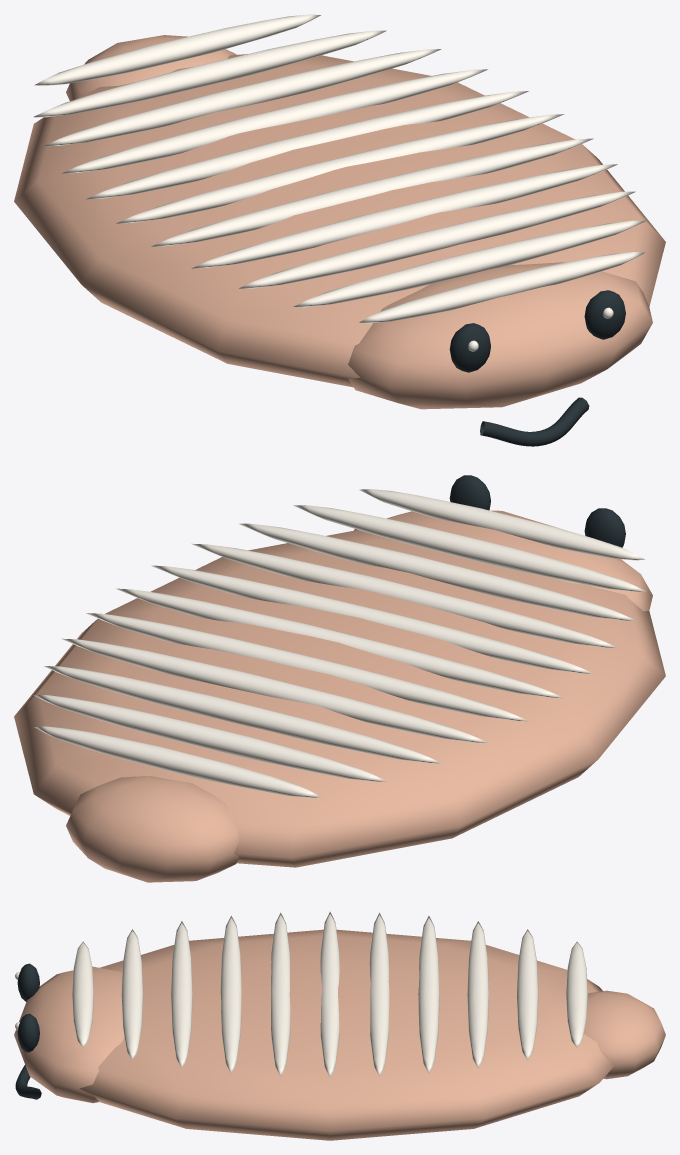
Rendered from org_dickinsonia.glb.
3 renders of one model, top to bottom at view 1: azimuth 30°, elevation 25°; view 2: azimuth 150°, elevation 25°; view 3: azimuth 270°, elevation 25°, orthographic. The views are drawn at different scales.
Parts seen in each view (by area): view 1: Body, Head, Tail, Eye_R, Eye_L; view 2: Body, Tail, Head, Eye_R, Eye_L; view 3: Body, Head, Tail, Eye_L, Eye_R.
Part boxes in pixels (x1,y1,x2,y2): Body: (14, 14, 665, 387); Head: (348, 262, 652, 446); Tail: (66, 35, 236, 100); Eye_R: (449, 323, 490, 372); Eye_L: (584, 290, 625, 339); Body: (14, 489, 665, 867); Tail: (66, 776, 239, 882); Head: (354, 510, 652, 611); Eye_R: (584, 508, 625, 547); Eye_L: (449, 475, 490, 510); Body: (72, 911, 614, 1140); Head: (14, 966, 124, 1103); Tail: (584, 990, 665, 1079); Eye_L: (15, 1013, 39, 1052); Eye_R: (15, 963, 39, 1001).
Size of the model in its own units: 1.19 by 0.3 by 1.71.
